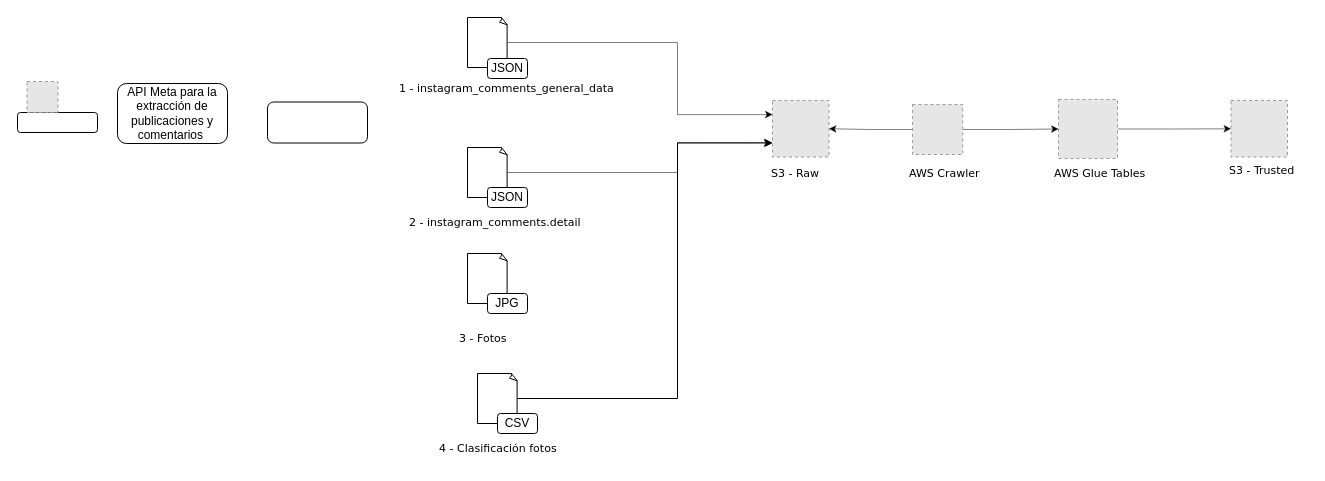
This 1325x481 diagram has some shape labels left out. Grey dashed boxes stand in for pictures. Each missing label, with the centre of its shape:
"ETL - Conversión de imágenes a JSON" belongs at point 317,122.
"Instagram" belongs at point 57,122.
